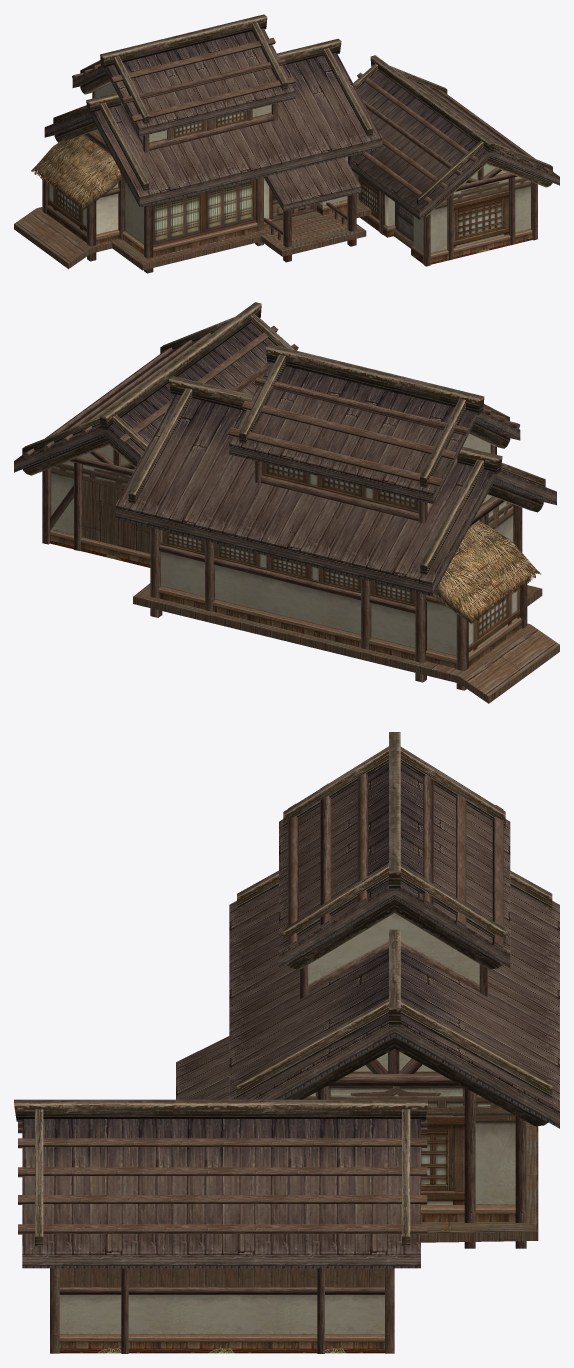
File: JapaneseHomes.FBX
The picture shows the model from 3 angles, top to bottom: view 1: azimuth 30°, elevation 25°; view 2: azimuth 150°, elevation 25°; view 3: azimuth 270°, elevation 25°; orthographic projection. The views are drawn at different scales.
Parts seen in each view (by area): view 1: cadnav; view 2: cadnav; view 3: cadnav.
Boxes of the visible parts, box(x1,y1,x2,y2) form: cadnav: box(14, 14, 559, 273); cadnav: box(14, 302, 559, 703); cadnav: box(14, 732, 559, 1353).
Bounding box in the file's own units: 2463 × 1145 × 1687.
